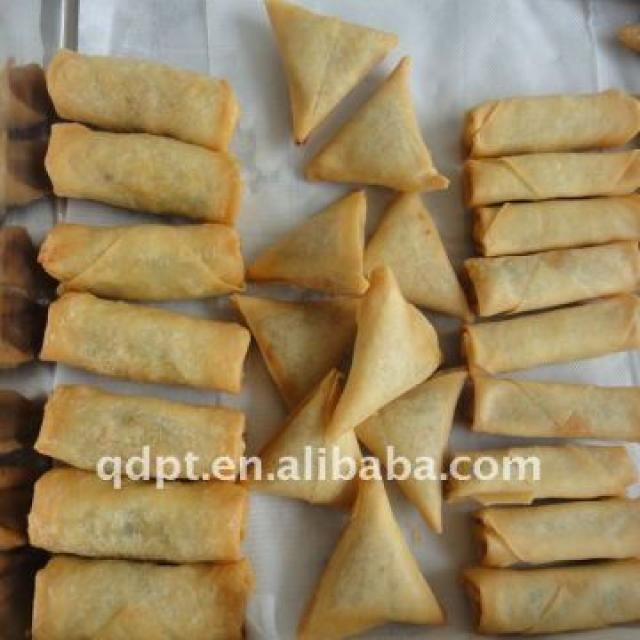Samosa: (262, 7, 442, 631)
Spring Rolls: (32, 36, 260, 638), (455, 76, 638, 638)
